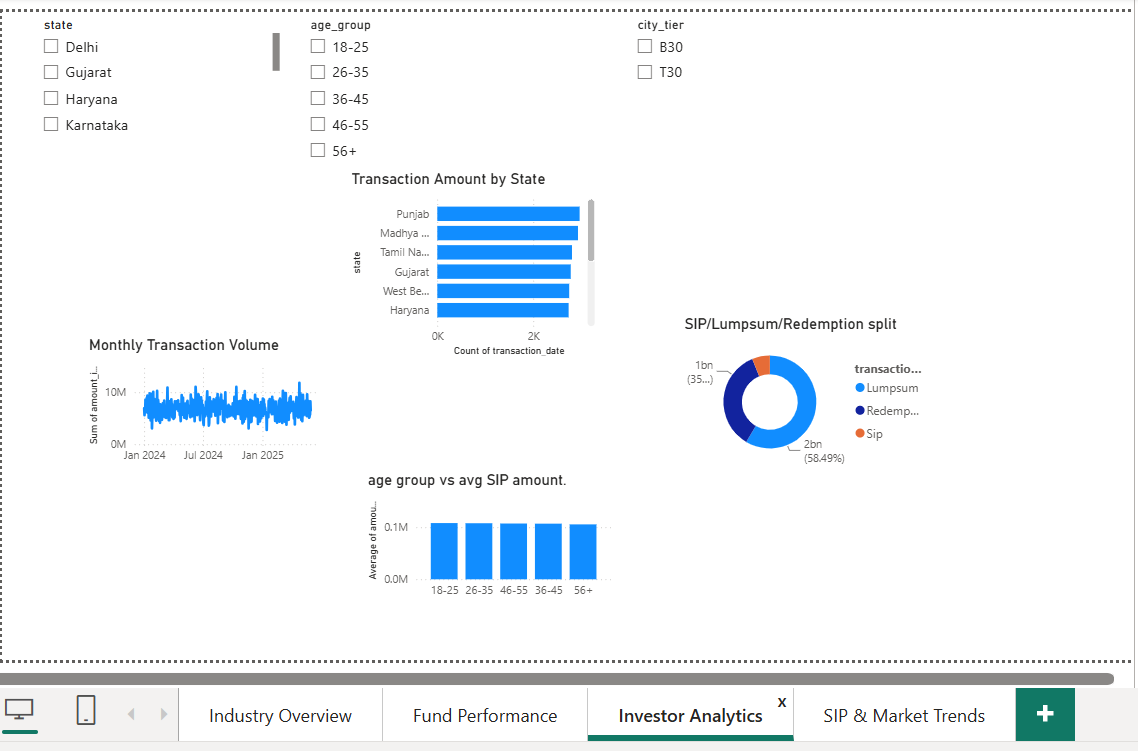

Layout of this report page (visuals, bound fields, positions):
{"tool":"powerbi","page":{"name":"Investor Analytics","canvas":[1280,720],"ordinal":2},"visuals":[{"type":"clusteredBarChart","title":"Transaction Amount by State","fields":{"Category":["08_investor_transactions_clean.state"],"Y":["CountNonNull(08_investor_transactions_clean.transaction_date)"]},"box":[383.3,175,280,211.7],"z":0},{"type":"donutChart","title":"SIP/Lumpsum/Redemption split","fields":{"Category":["08_investor_transactions_clean.transaction_type"],"Y":["Sum(08_investor_transactions_clean.amount_inr)"]},"box":[753.3,336.7,280,173.3],"z":1000},{"type":"lineChart","title":"Monthly Transaction Volume","fields":{"Category":["08_investor_transactions_clean.transaction_date"],"Y":["Sum(08_investor_transactions_clean.amount_inr)"]},"box":[91.7,360,280,150],"z":2000},{"type":"clusteredColumnChart","title":"age group vs avg SIP amount. ","fields":{"Category":["08_investor_transactions_clean.age_group"],"Y":["Avg(08_investor_transactions_clean.amount_inr)"]},"box":[401.7,510,280,150],"z":3000},{"type":"slicer","fields":{"Values":["08_investor_transactions_clean.state"]},"box":[33.3,0,280,150],"z":4000},{"type":"slicer","fields":{"Values":["08_investor_transactions_clean.age_group"]},"box":[330,0,280,175],"z":5000},{"type":"slicer","fields":{"Values":["08_investor_transactions_clean.city_tier"]},"box":[693.3,0,280,150],"z":6000}]}

Visuals, with their boxes on the page's 1280x720 design canvas (x1, y1, x2, y2). These are canvas units, not pixel positions in the 1138x751 screenshot, which may show the page scaled, cropped or inside an application window:
"Transaction Amount by State" clusteredBarChart: box(383, 175, 663, 387)
"SIP/Lumpsum/Redemption split" donutChart: box(753, 337, 1033, 510)
"Monthly Transaction Volume" lineChart: box(92, 360, 372, 510)
"age group vs avg SIP amount. " clusteredColumnChart: box(402, 510, 682, 660)
slicer - 08_investor_transactions_clean.state: box(33, 0, 313, 150)
slicer - 08_investor_transactions_clean.age_group: box(330, 0, 610, 175)
slicer - 08_investor_transactions_clean.city_tier: box(693, 0, 973, 150)
